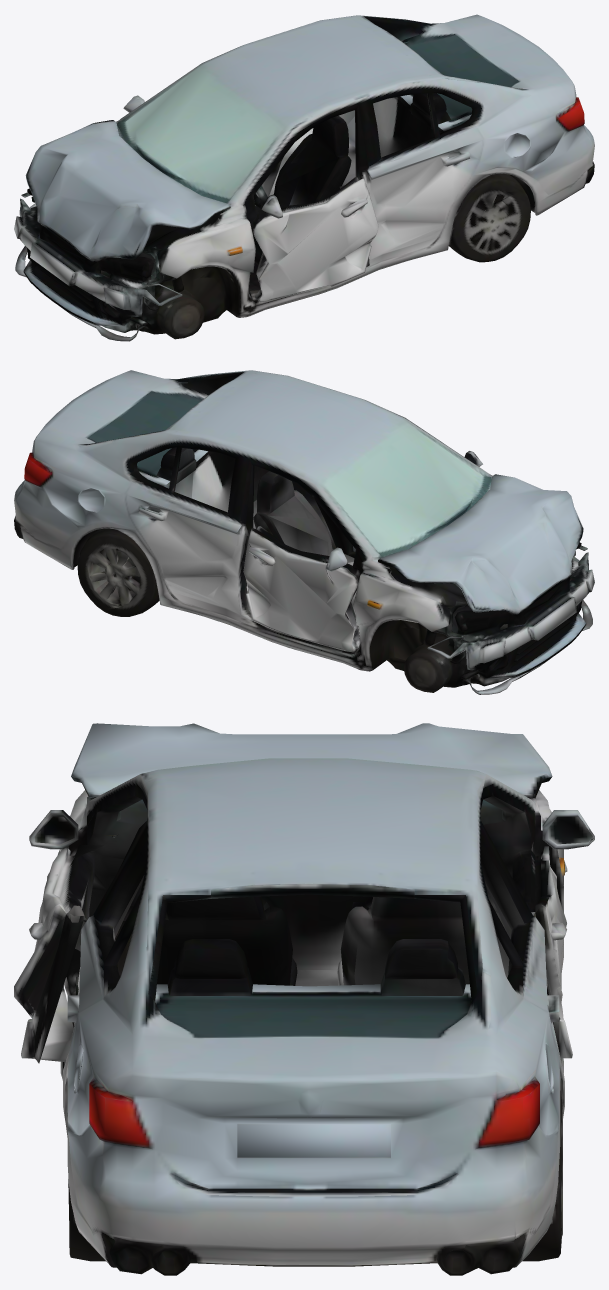
The model's file is BrokenCar6.glb.
3 renders of one model, top to bottom at view 1: azimuth 30°, elevation 25°; view 2: azimuth 150°, elevation 25°; view 3: azimuth 270°, elevation 25°, orthographic. The views are drawn at different scales.
Parts seen in each view (by area): view 1: BrokenCar6; view 2: BrokenCar6; view 3: BrokenCar6.
Boxes of the visible parts, x1,y1,x2,y2 form: BrokenCar6: (14, 14, 594, 341); BrokenCar6: (14, 370, 594, 694); BrokenCar6: (14, 723, 594, 1275).
Bounding box in the file's own units: 1.9 × 0.6708 × 0.9966.
Materials: 1 (1 with a texture image).
